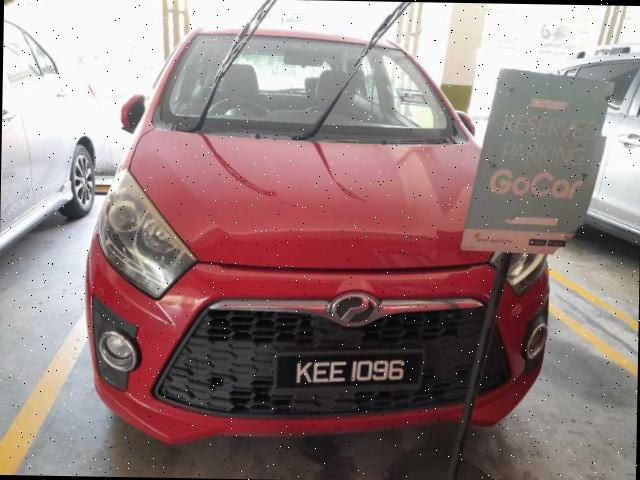License_Plate: (271, 345, 426, 402)
car: (82, 1, 558, 452)
